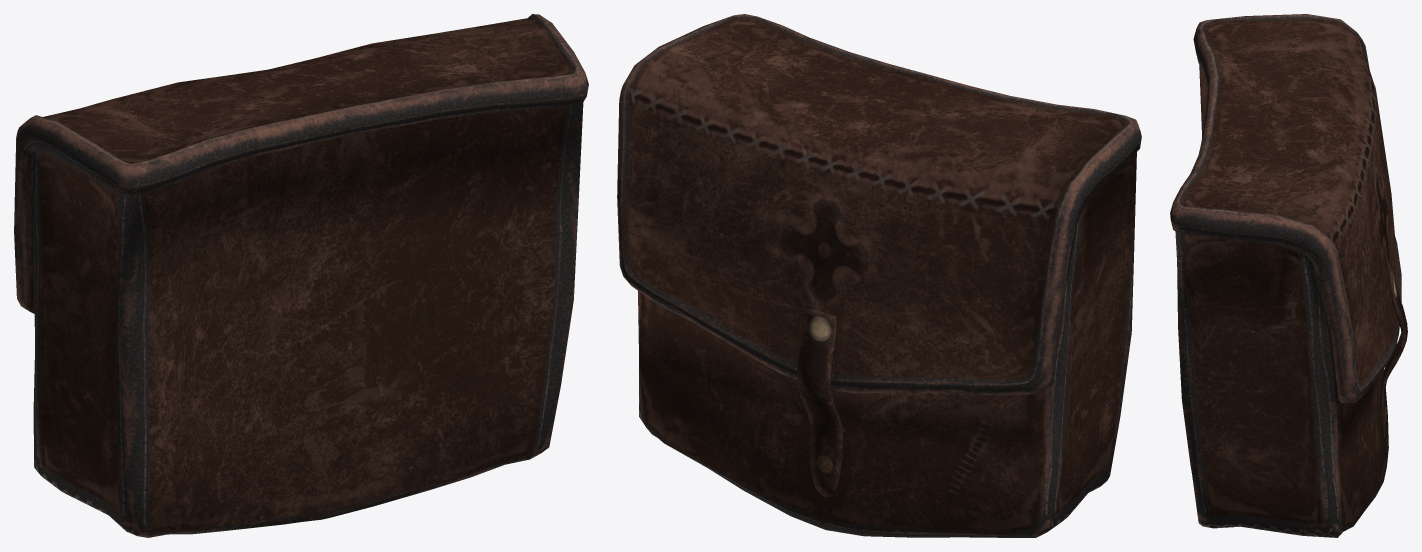
The model's file is bolsa.glb.
The picture shows the model from 3 angles, left to right: view 1: azimuth 30°, elevation 25°; view 2: azimuth 150°, elevation 25°; view 3: azimuth 270°, elevation 25°; orthographic projection. The views are drawn at different scales.
Parts seen in each view (by area): view 1: Bag_LP_Bag_0; view 2: Bag_LP_Bag_0; view 3: Bag_LP_Bag_0.
Part boxes in pixels (x1,y1,x2,y2): Bag_LP_Bag_0: (14, 14, 588, 537); Bag_LP_Bag_0: (617, 14, 1141, 537); Bag_LP_Bag_0: (1170, 14, 1407, 537).
Size of the model in its own units: 1.01 by 0.8227 by 0.4817.
Materials: 1 (1 with a texture image).
